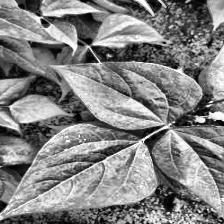Bean Rust: (0, 120, 158, 224), (154, 124, 224, 218)
